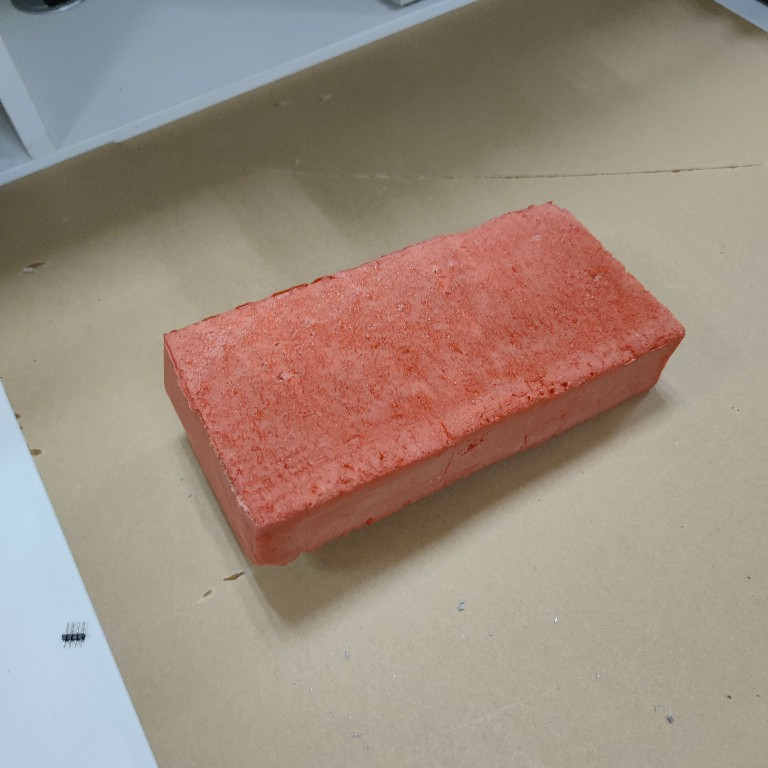brick: (155, 196, 690, 570)
